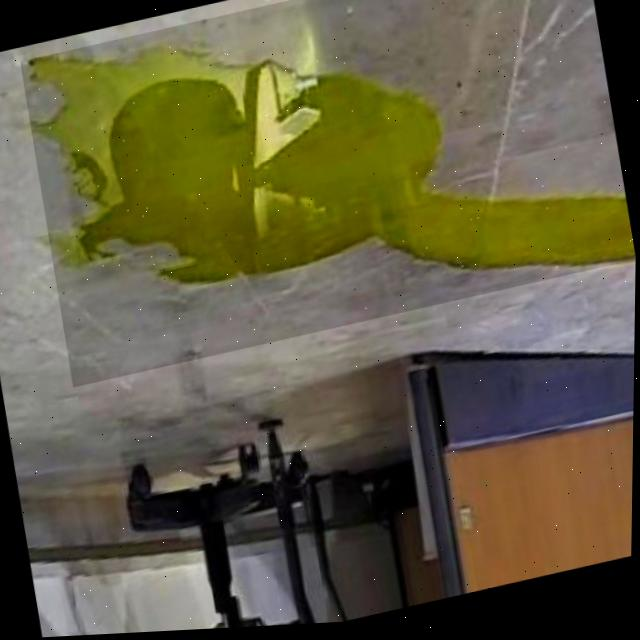spillage: (29, 47, 636, 288)
